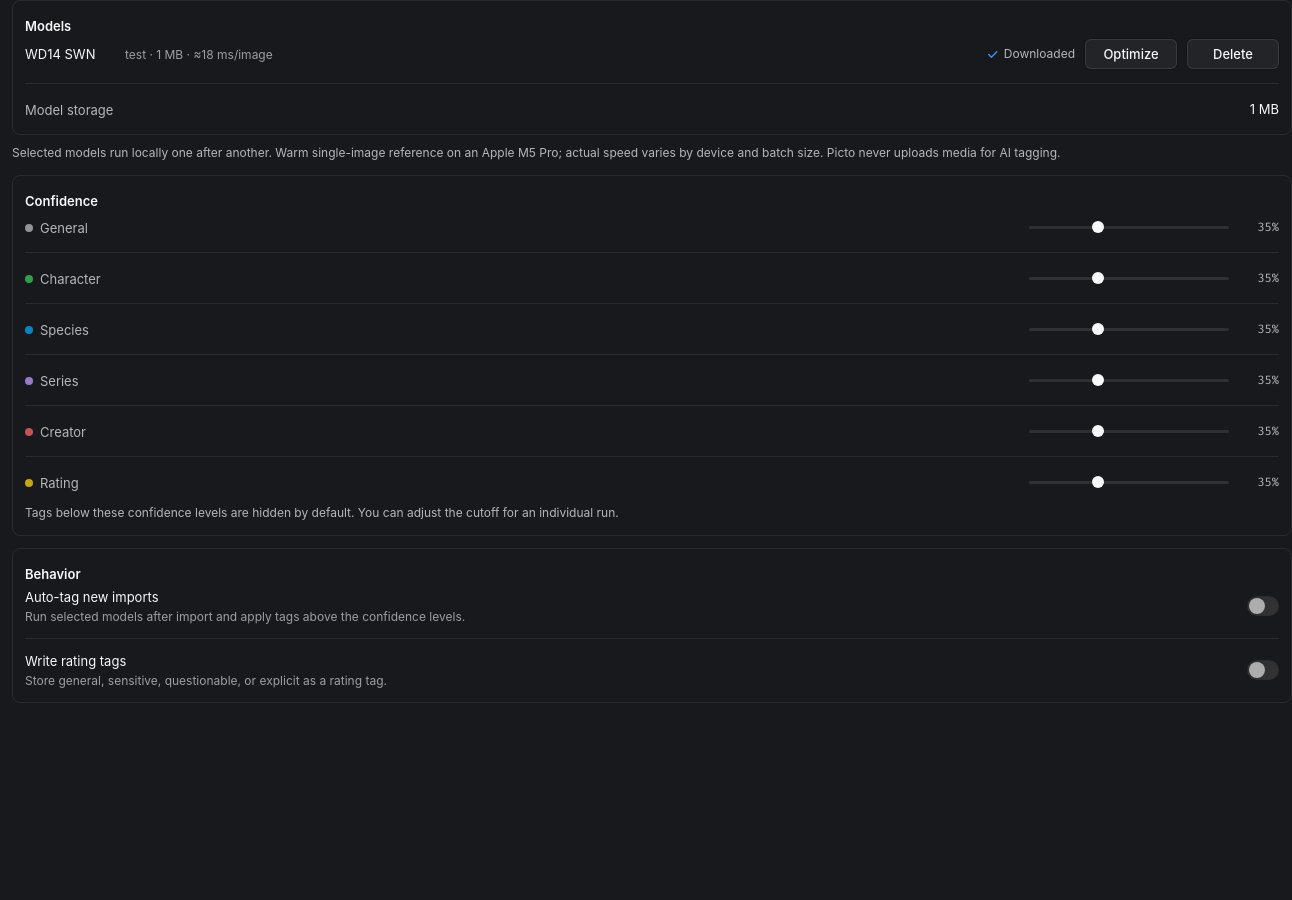
Test case: AiTaggingPanel › exposes the explicit Mac optimization step for supported downloads
Click the button with aria-label "Optimize for this Mac". click: (1131, 54)
box: left=1085, top=39, right=1177, bottom=69
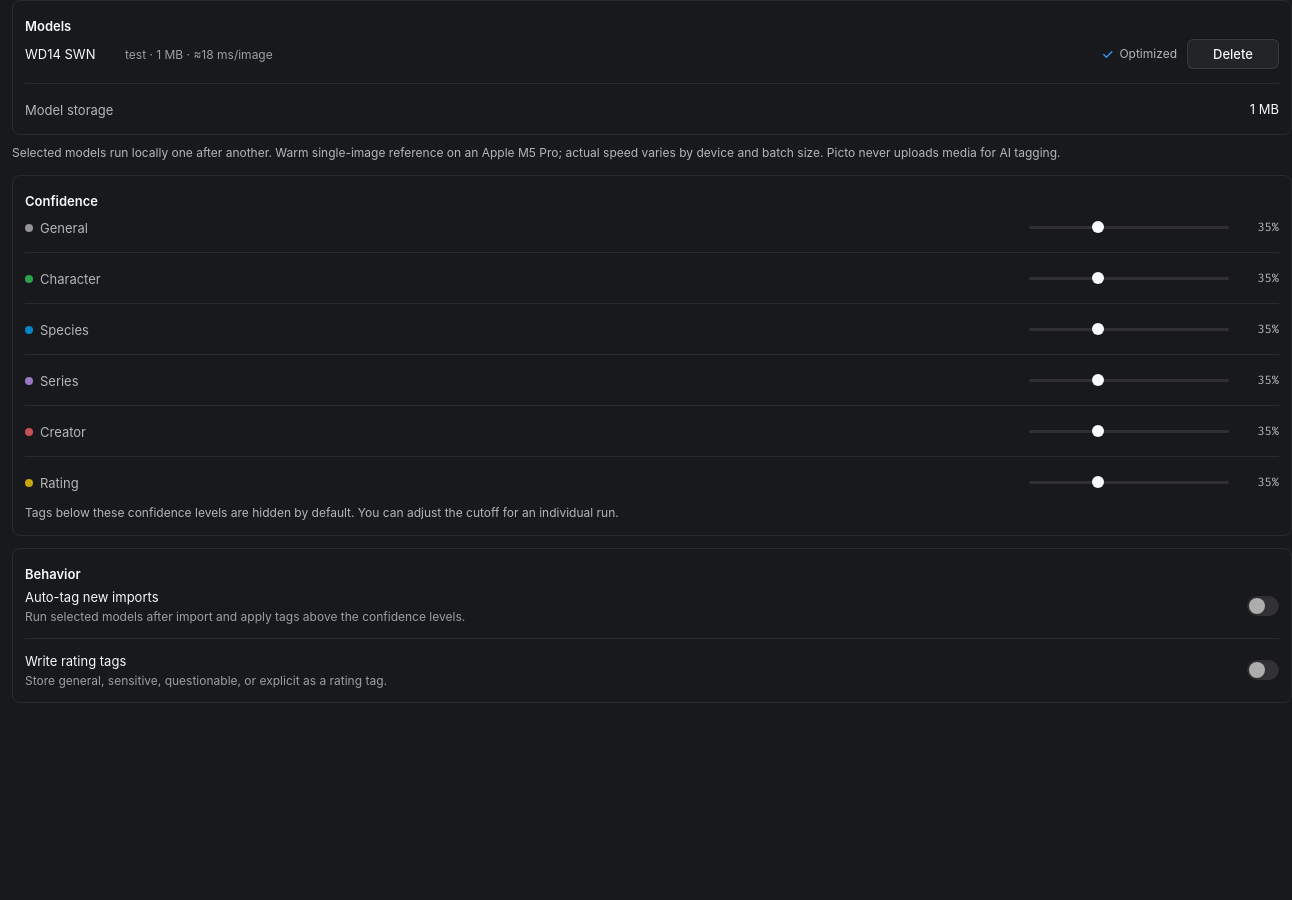
Check: the text "Optimized" is shown, box left=1101, top=45, right=1177, bottom=63
